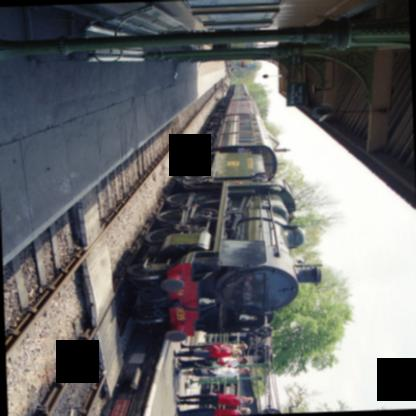handbag: (188, 363, 210, 376), (203, 358, 220, 367)
